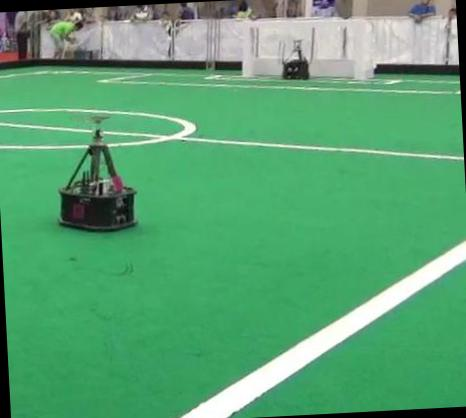goal: (242, 21, 253, 76), (351, 19, 361, 79)
robot: (59, 114, 135, 230), (282, 39, 308, 78)
